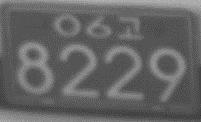0: (54, 12, 82, 39)
2: (104, 44, 144, 101), (59, 42, 100, 97)
6: (86, 14, 112, 40)
8: (16, 40, 54, 96)
9: (148, 46, 186, 102)
고: (116, 15, 144, 40)
